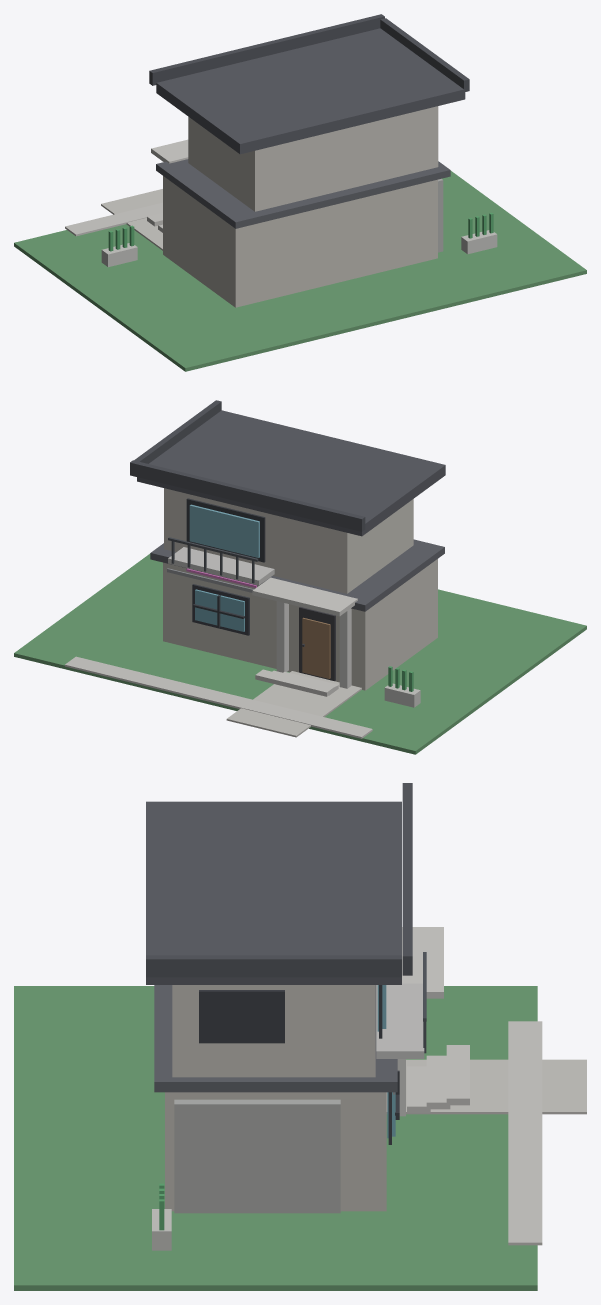
File: Casa_mejor.glb
The picture shows the model from 3 angles, top to bottom: view 1: azimuth 30°, elevation 25°; view 2: azimuth 150°, elevation 25°; view 3: azimuth 270°, elevation 25°; orthographic projection. The views are drawn at different scales.
Parts seen in each view (by area): view 1: terreno_pasto_verde, primer_piso_muros_beige, techo_plano_grafito, segundo_piso_muros_beige, losa_intermedia_grafito, pretil_techo_frontal, andador_frontal_concreto, pretil_techo_lateral_der, banqueta_frontal, porche_losa_blanca, maceta_derecha, maceta_izquierda; view 2: terreno_pasto_verde, techo_plano_grafito, primer_piso_muros_beige, segundo_piso_muros_beige, pretil_techo_frontal, banqueta_frontal, andador_frontal_concreto, losa_intermedia_grafito, vidrio_ventanal_segundo, porche_losa_blanca, balcon_losa, puerta_madera_principal_interior (+9 smaller); view 3: terreno_pasto_verde, techo_plano_grafito, volumen_lateral_gris, segundo_piso_muros_beige, primer_piso_muros_beige, banqueta_frontal, losa_intermedia_grafito, pretil_techo_lateral_der, andador_frontal_concreto, marco_lateral_segundo, balcon_losa, porche_losa_blanca (+5 smaller).
Boxes of the visible parts, box(x1,y1,x2,y2) form: terreno_pasto_verde: box(14, 171, 586, 371); primer_piso_muros_beige: box(163, 176, 437, 307); techo_plano_grafito: box(156, 28, 465, 154); segundo_piso_muros_beige: box(188, 106, 438, 211); losa_intermedia_grafito: box(156, 159, 450, 228); pretil_techo_frontal: box(149, 14, 384, 85); andador_frontal_concreto: box(101, 189, 162, 250); pretil_techo_lateral_der: box(380, 18, 469, 91); banqueta_frontal: box(65, 202, 162, 236); porche_losa_blanca: box(151, 139, 188, 163); maceta_derecha: box(461, 230, 497, 254); maceta_izquierda: box(101, 243, 137, 267); terreno_pasto_verde: box(14, 553, 586, 754); techo_plano_grafito: box(137, 410, 445, 536); primer_piso_muros_beige: box(163, 559, 437, 690); segundo_piso_muros_beige: box(164, 488, 413, 593); pretil_techo_frontal: box(130, 460, 365, 531); banqueta_frontal: box(65, 656, 372, 738); andador_frontal_concreto: box(226, 671, 361, 737); losa_intermedia_grafito: box(150, 539, 444, 611); vidrio_ventanal_segundo: box(189, 504, 259, 557); porche_losa_blanca: box(252, 577, 357, 616); balcon_losa: box(168, 547, 274, 585); puerta_madera_principal_interior: box(302, 617, 330, 678); terreno_pasto_verde: box(14, 986, 537, 1290); techo_plano_grafito: box(146, 801, 401, 984); volumen_lateral_gris: box(174, 1099, 340, 1213); segundo_piso_muros_beige: box(172, 985, 375, 1077); primer_piso_muros_beige: box(165, 1092, 386, 1211); banqueta_frontal: box(508, 1021, 542, 1245); losa_intermedia_grafito: box(154, 985, 397, 1092); pretil_techo_lateral_der: box(146, 955, 401, 977); andador_frontal_concreto: box(386, 1059, 586, 1114); marco_lateral_segundo: box(199, 990, 284, 1043); balcon_losa: box(376, 983, 424, 1058); porche_losa_blanca: box(402, 927, 443, 998).
Bounding box in the file's own units: 11.5 × 4.99 × 9.3.
